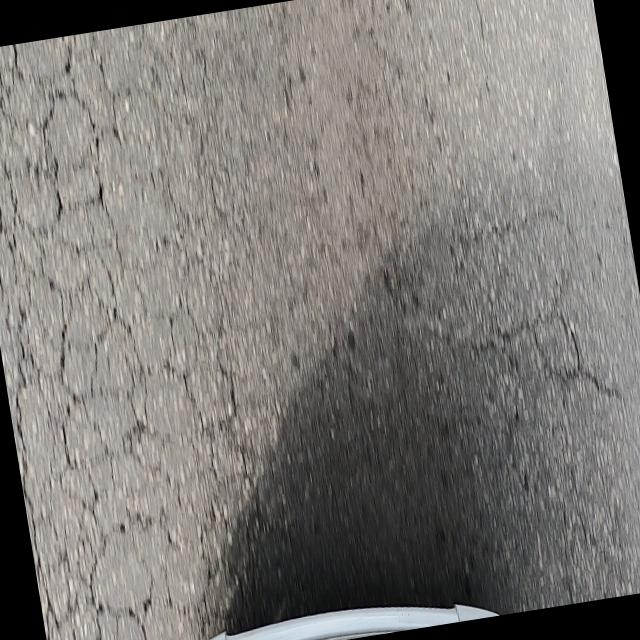Retak-Buaya: (0, 44, 249, 640)
